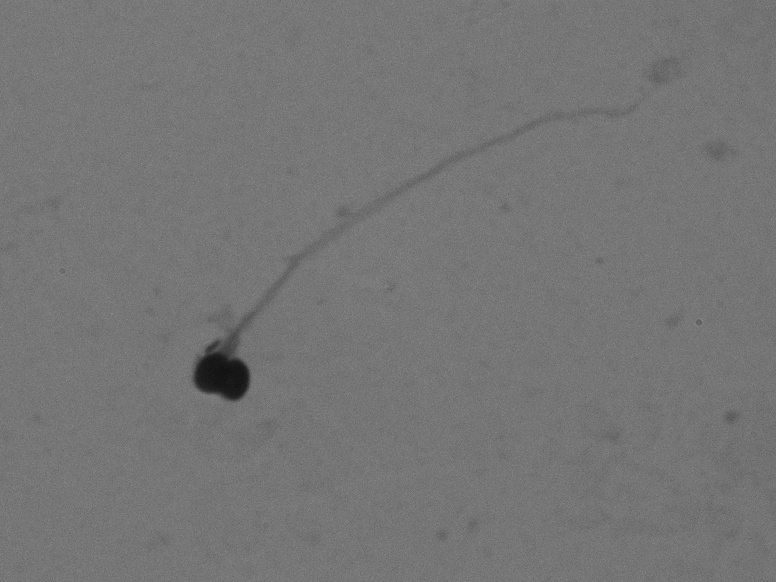Abnormal: (126, 68, 674, 418)
